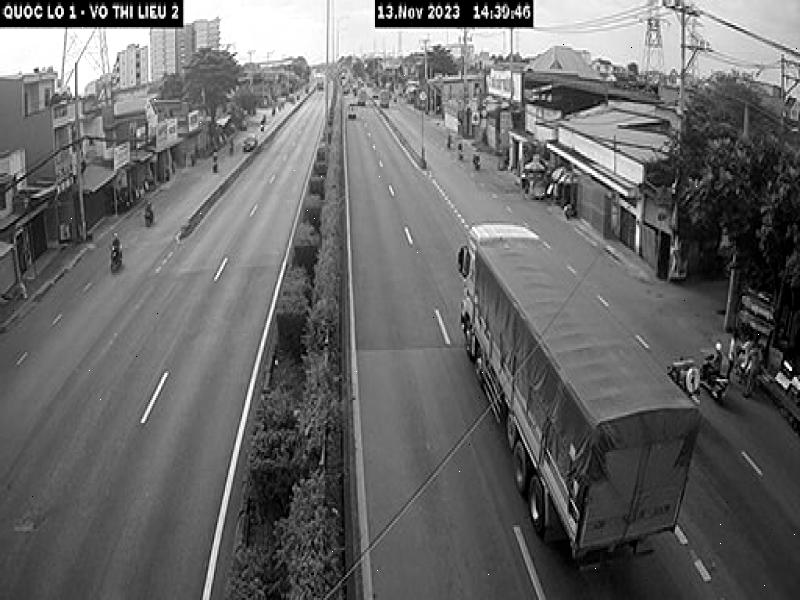truck: (457, 220, 702, 574)
